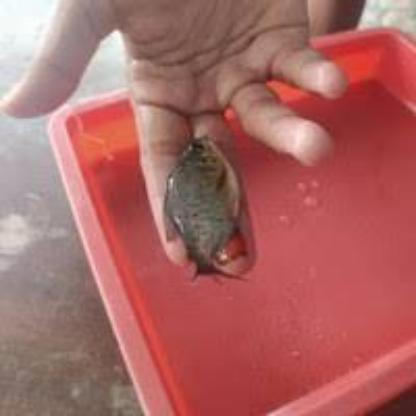ikan-pacu: (162, 132, 240, 280)
